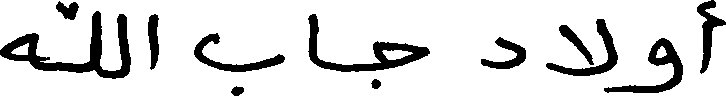أ: (698, 0, 724, 75)
ا: (305, 12, 319, 67), (146, 12, 158, 70)
ب: (188, 30, 289, 95)
ج: (370, 39, 430, 90)
د: (478, 35, 526, 69)
ع: (86, 9, 100, 78), (115, 11, 129, 78)
لا: (543, 17, 616, 93)
ه: (0, 30, 38, 70)
و: (645, 35, 683, 93)
